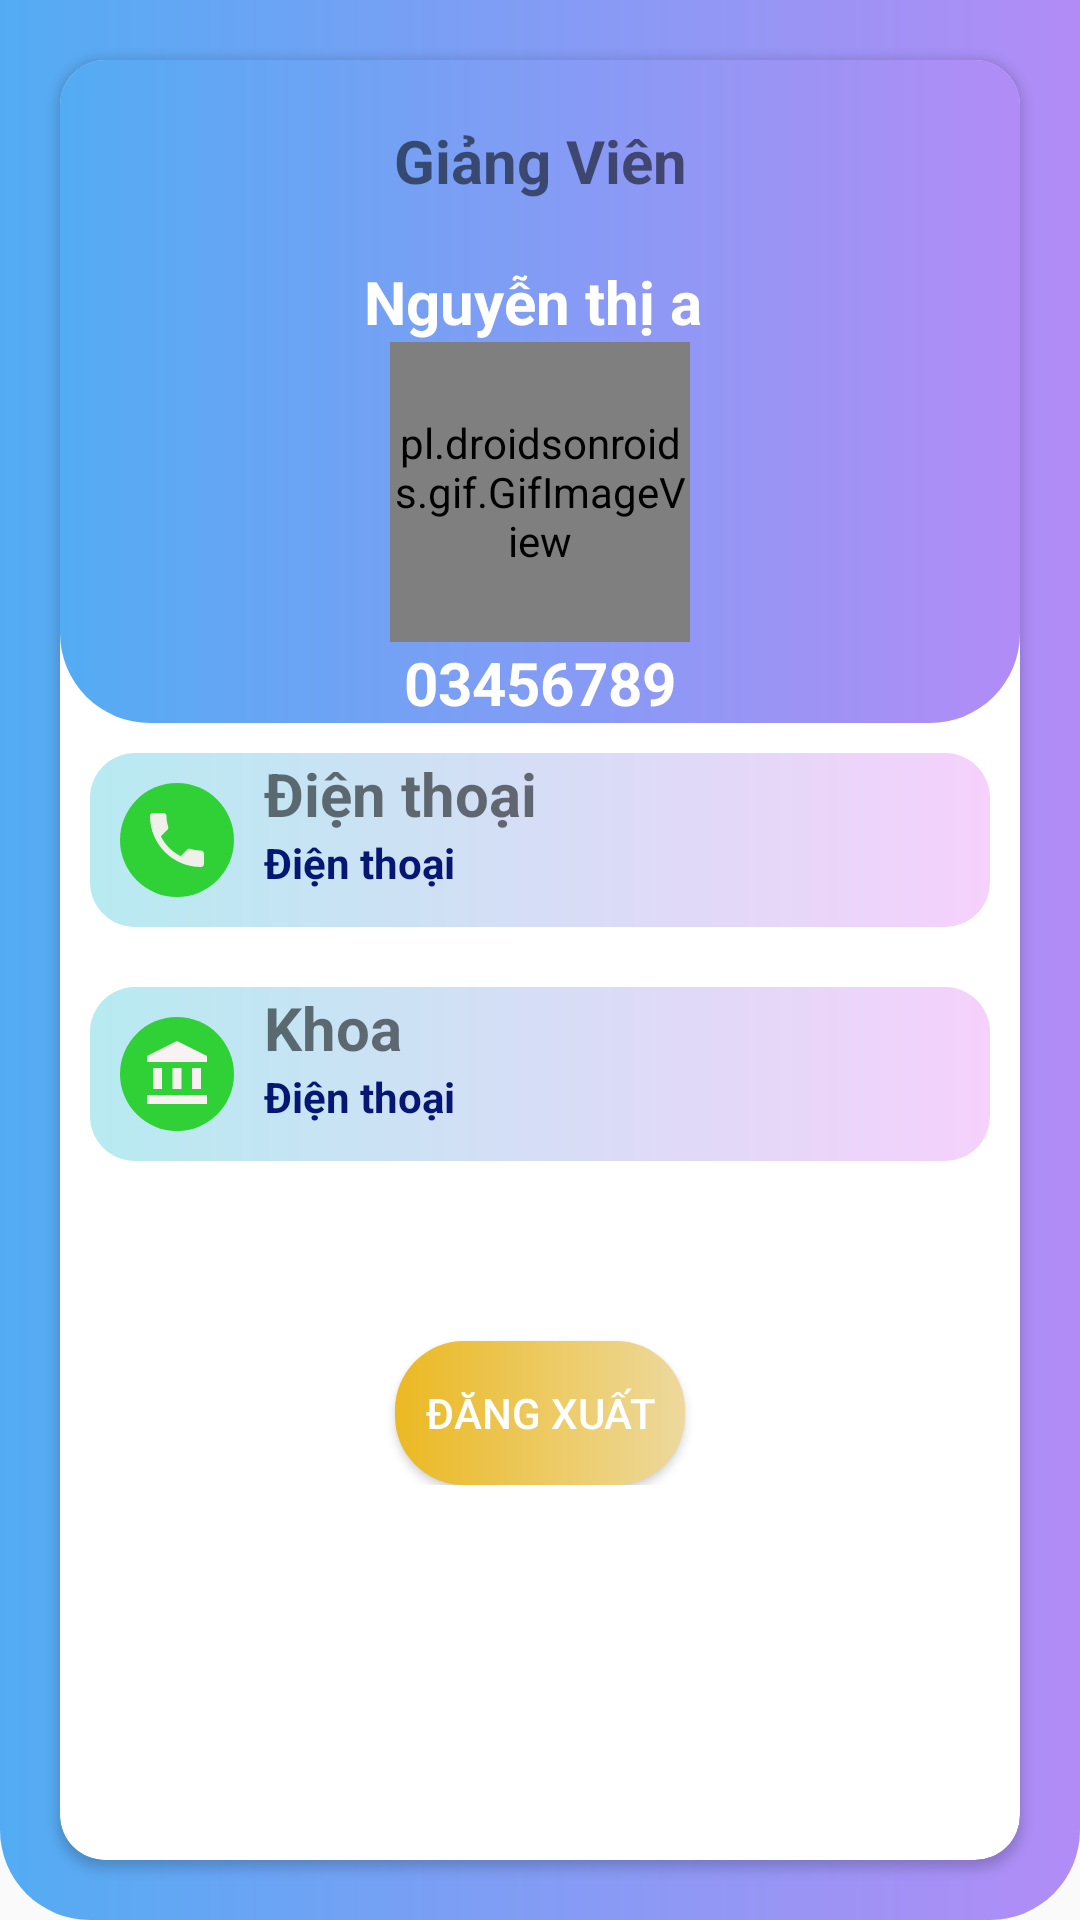

Locate icon controls on the screen. Image size 1080x1920, boxes as {"left": x1, "top": y1, "right": x2, "bottom": y2}.
phonee: {"left": 120, "top": 783, "right": 234, "bottom": 897}
